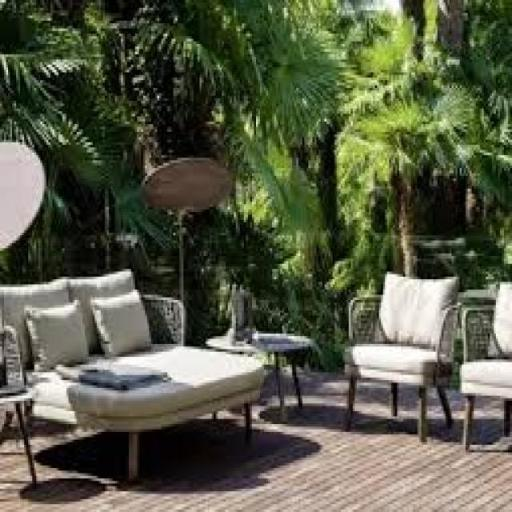sofa: (6, 254, 276, 488), (325, 214, 512, 466)
